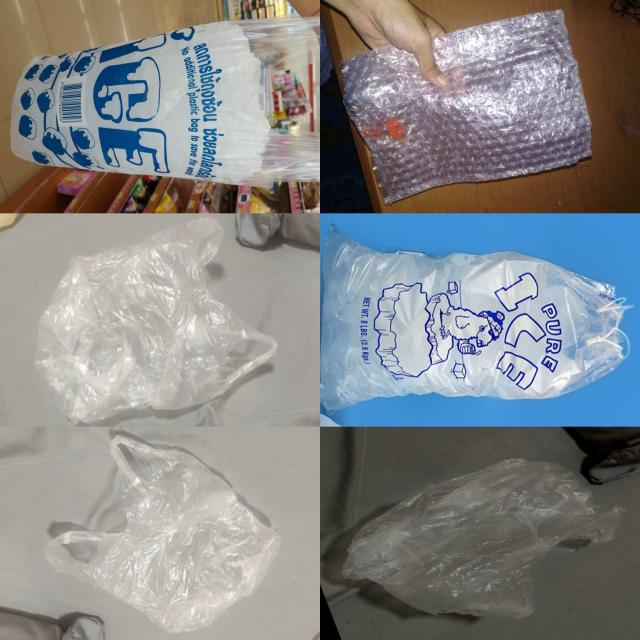Single-layer Plastic: (322, 226, 627, 410), (10, 18, 319, 184), (35, 218, 276, 424), (340, 10, 592, 204), (45, 435, 280, 632), (343, 459, 623, 618)
